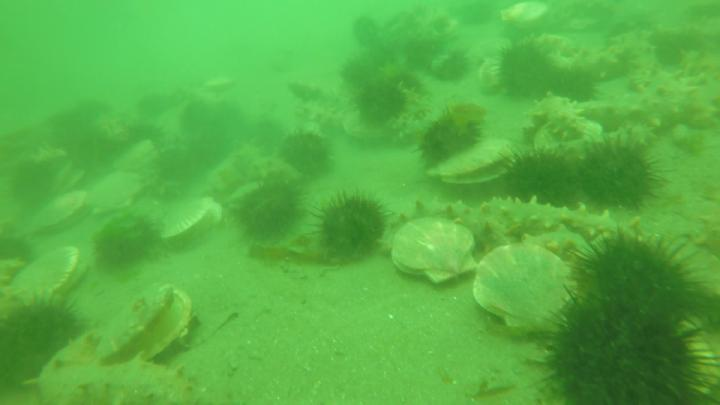echinus: (534, 291, 699, 405), (575, 225, 697, 329), (2, 300, 80, 390), (572, 137, 657, 215), (311, 194, 392, 269), (499, 147, 579, 209), (349, 64, 419, 130), (241, 181, 303, 244), (93, 215, 162, 271), (496, 41, 556, 103), (422, 109, 485, 163), (278, 133, 334, 181), (12, 161, 59, 208), (179, 101, 225, 145), (157, 147, 206, 186), (1, 223, 39, 266), (123, 118, 169, 150), (437, 49, 474, 85), (351, 12, 382, 51)
holothurian: (482, 191, 662, 254), (27, 354, 192, 405), (610, 72, 715, 130), (397, 198, 510, 245), (554, 42, 645, 87), (533, 91, 591, 149), (522, 225, 598, 263), (208, 147, 256, 196), (289, 98, 354, 133), (285, 78, 355, 109), (249, 153, 303, 184), (393, 89, 422, 141)
scallop: (477, 242, 580, 338), (96, 279, 197, 364), (391, 214, 482, 287), (13, 241, 88, 324), (424, 138, 519, 187), (160, 193, 223, 253), (29, 188, 92, 235), (533, 119, 611, 156), (92, 171, 145, 216), (499, 1, 553, 29)
